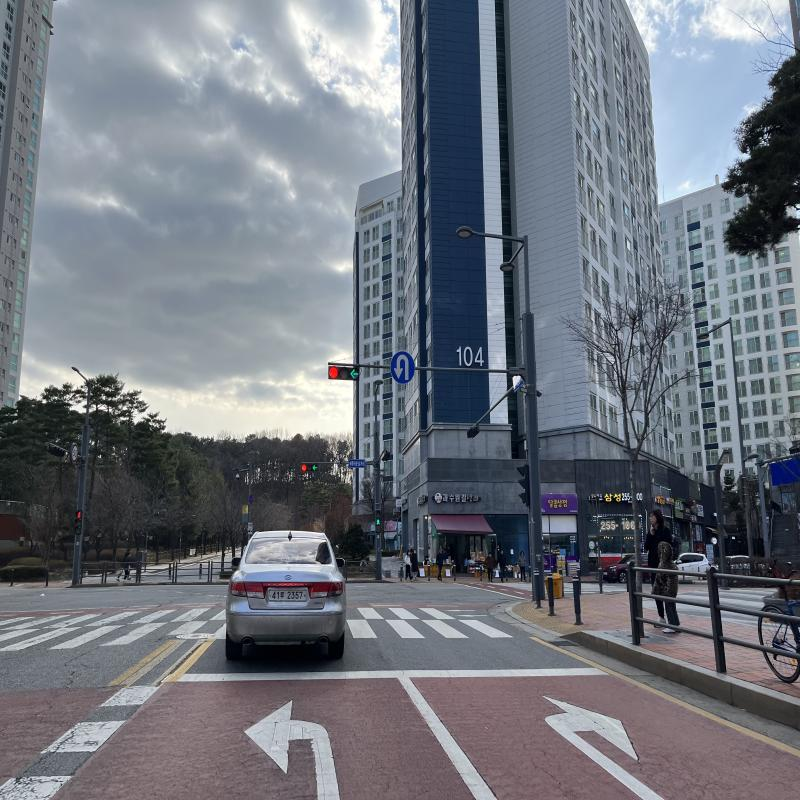left: (349, 368, 359, 380), (312, 465, 317, 470)
red: (328, 366, 340, 380)
